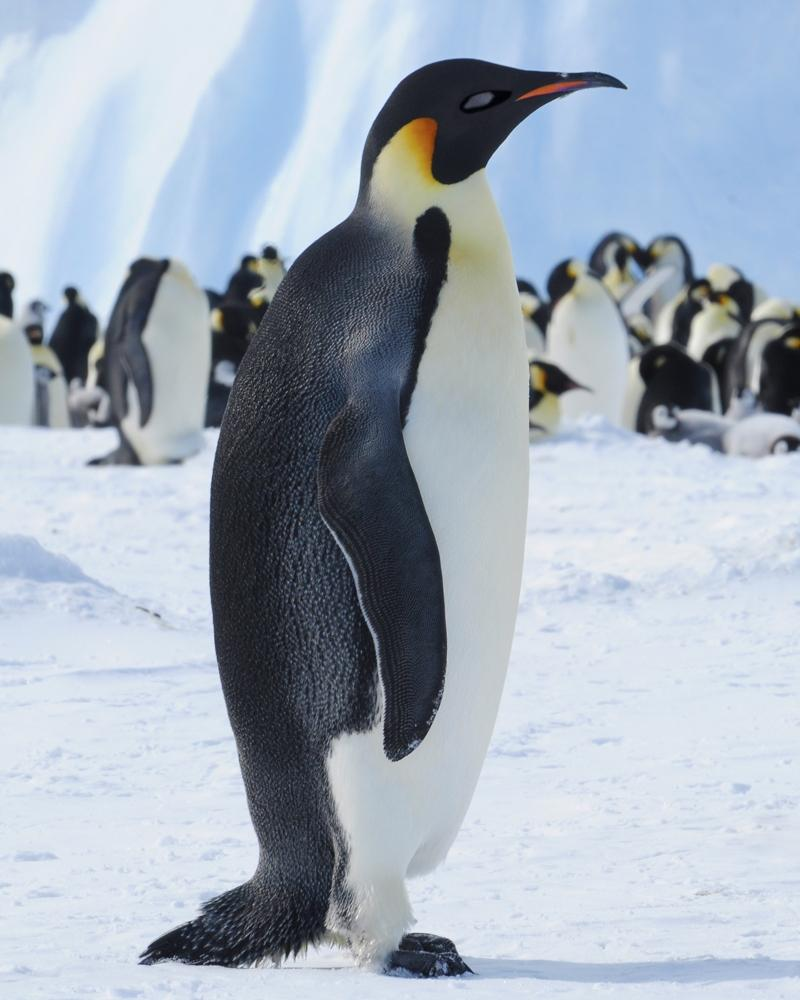emporer: (141, 22, 620, 1000)
